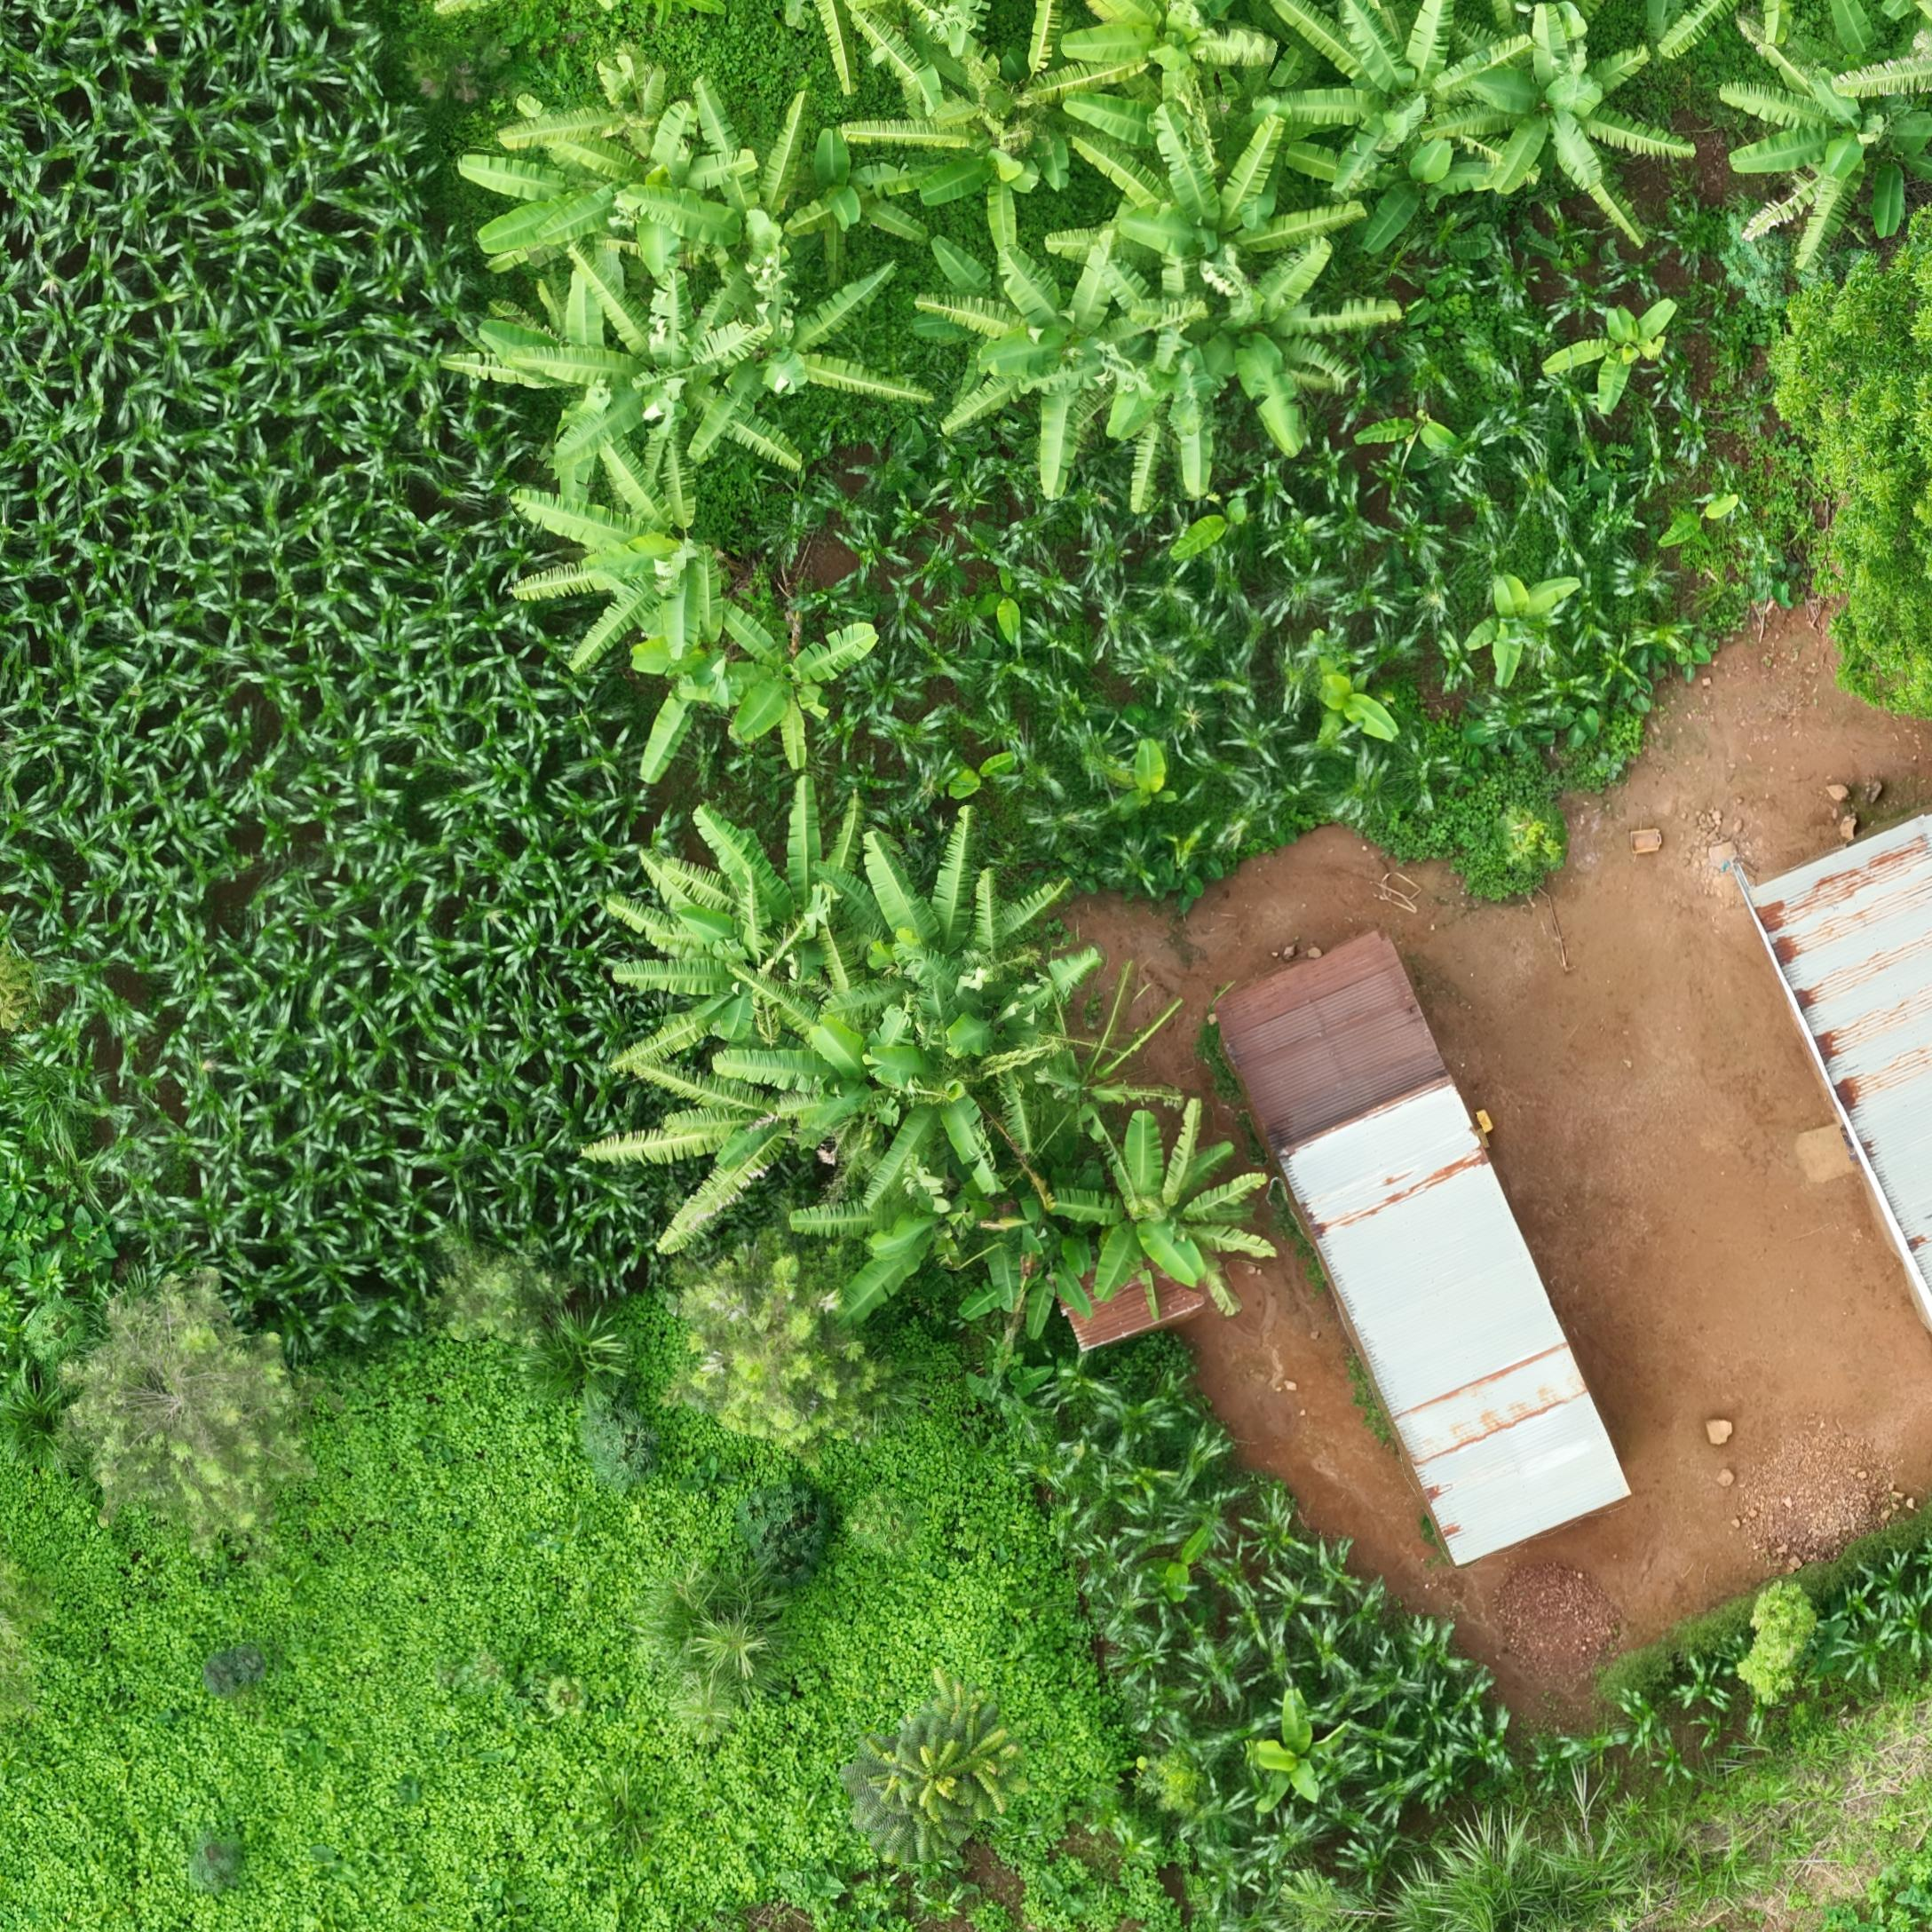Banana: (971, 239, 1246, 502), (1297, 4, 1591, 207), (1514, 27, 1759, 264), (708, 272, 970, 492), (1106, 103, 1421, 278), (1212, 257, 1451, 476), (494, 97, 773, 281), (1093, 1145, 1329, 1362), (637, 80, 870, 295), (881, 53, 1178, 218), (851, 863, 1109, 1053), (534, 448, 724, 688), (686, 810, 899, 1014), (602, 287, 791, 511), (600, 1090, 855, 1247), (556, 106, 786, 271), (1063, 1014, 1228, 1237), (886, 1077, 1092, 1247), (626, 925, 844, 1085), (1783, 18, 1932, 248), (754, 1016, 934, 1178), (479, 306, 676, 455), (745, 630, 902, 786), (814, 134, 968, 288), (1368, 147, 1552, 264), (1587, 308, 1746, 433), (518, 55, 692, 163), (955, 126, 1079, 255), (1299, 1746, 1403, 1882), (655, 662, 759, 793), (1530, 594, 1635, 709), (1350, 683, 1456, 770), (1403, 419, 1523, 488), (1200, 1571, 1265, 1672), (1219, 515, 1300, 589), (1014, 566, 1070, 662), (978, 771, 1058, 833), (1162, 741, 1217, 816)
